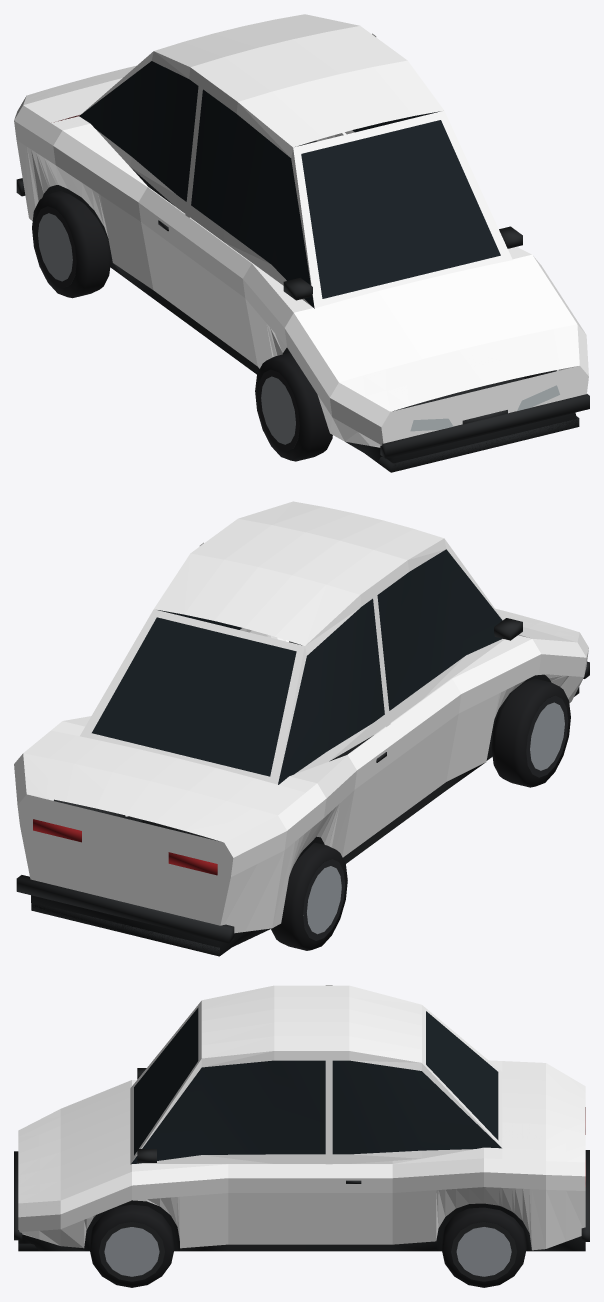
The model's file is bancroft_grao.glb.
3 views of the same model, one above another, from view 1: azimuth 30°, elevation 25°; view 2: azimuth 150°, elevation 25°; view 3: azimuth 270°, elevation 25° (orthographic). The views are drawn at different scales.
Visible parts, largest first — view 1: Body_Paint, Body_Details, Mount_RearLeft_Wheel_Details, Mount_FrontLeft_Wheel_Details; view 2: Body_Paint, Body_Details, Mount_FrontLeft_Wheel_Details, Mount_RearLeft_Wheel_Details; view 3: Body_Paint, Body_Details, Mount_FrontRight_Wheel_Details, Mount_RearRight_Wheel_Details.
Boxes of the visible parts, x1,y1,x2,y2 form: Body_Paint: (14, 14, 588, 447); Body_Details: (16, 61, 589, 472); Mount_RearLeft_Wheel_Details: (32, 191, 111, 298); Mount_FrontLeft_Wheel_Details: (255, 352, 332, 461); Body_Paint: (14, 501, 588, 933); Body_Details: (16, 549, 589, 956); Mount_FrontLeft_Wheel_Details: (491, 678, 570, 787); Mount_RearLeft_Wheel_Details: (271, 842, 347, 950); Body_Paint: (18, 985, 585, 1250); Body_Details: (14, 1007, 589, 1251); Mount_FrontRight_Wheel_Details: (89, 1204, 174, 1287); Mount_RearRight_Wheel_Details: (441, 1207, 526, 1287).
Bounding box in the file's own units: 1.64 × 1.62 × 3.8.
Materials: 2 (1 with a texture image).
